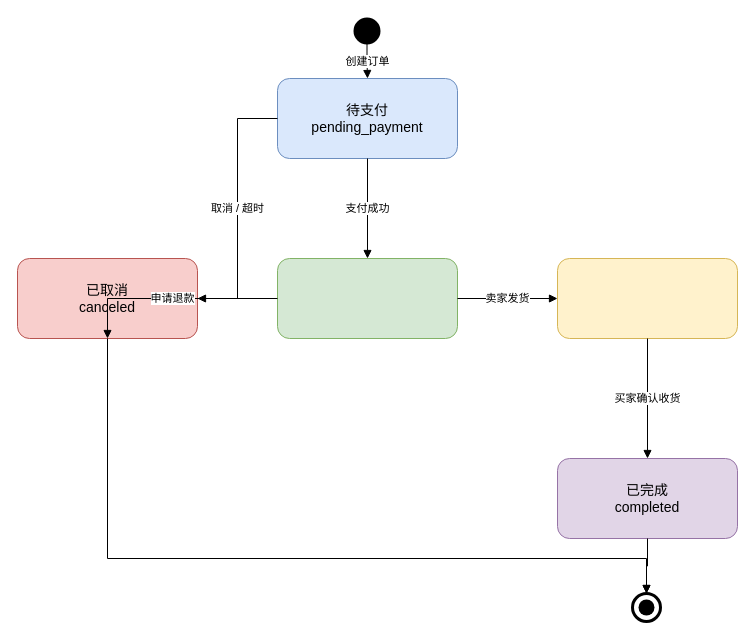
Image size: 755x640. Some labels were removed from this diagram. The shapes that lost their labels are listed below. From the top down, each one's centre as x and y in pixels, then its label:
(x=367, y=298): 已支付 paid
(x=647, y=298): 已发货 shipped
